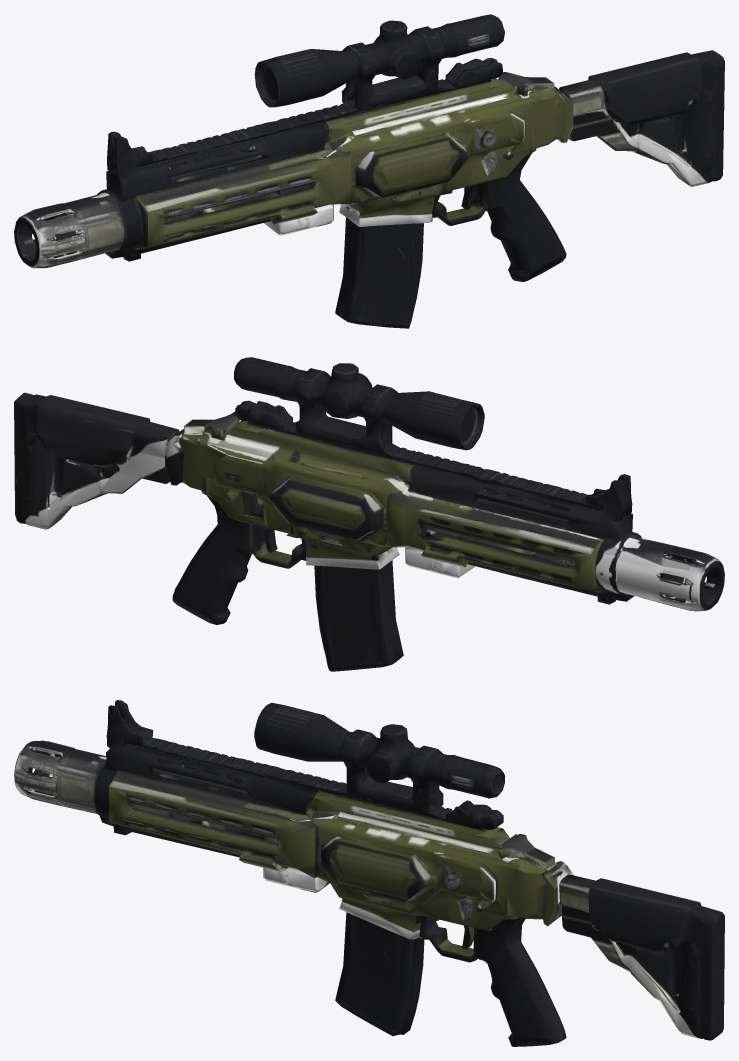
File: battle-rifle.glb
3 renders of one model, top to bottom at view 1: azimuth 30°, elevation 25°; view 2: azimuth 150°, elevation 25°; view 3: azimuth 330°, elevation 25°, orthographic.
Visible parts, largest first — view 1: Mesh_0; view 2: Mesh_0; view 3: Mesh_0.
Boxes of the visible parts, <box> form: Mesh_0: <box>14,14,724,328</box>; Mesh_0: <box>14,357,724,671</box>; Mesh_0: <box>14,700,724,1046</box>.
Size of the model in its own units: 0.95 by 0.3932 by 0.1111.
Materials: 1 (1 with a texture image).
